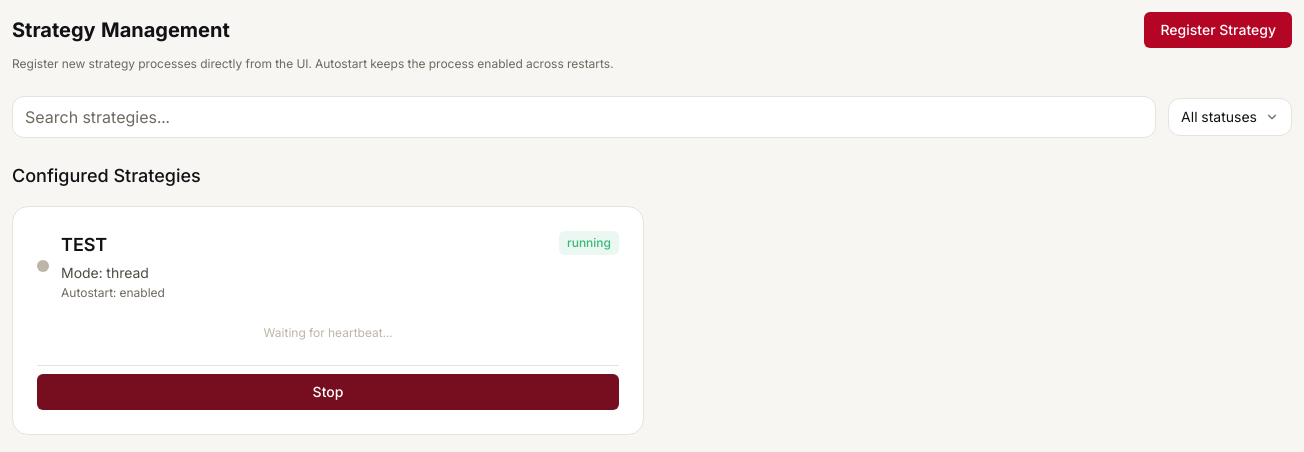
Test case: Strategies › shows no match state and clears filters
This screenshot has width=1304, height=452.
Expected: the heading "TEST" is shown, [61,234,107,255]
Type "nonexistent" into the field with placeholder "Search strategies..." at coordinates (584, 117), box [12,96,1156,138]
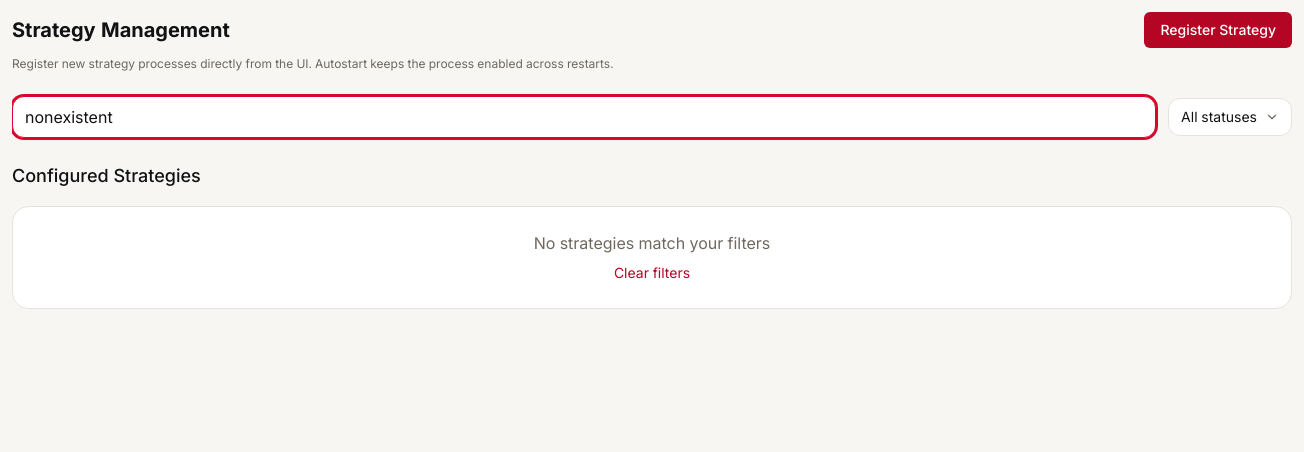
Now the text "No strategies match your filters" is shown, box [534,233,770,253]
Click the button "Clear filters" at coordinates (652, 273), box [614,263,690,283]
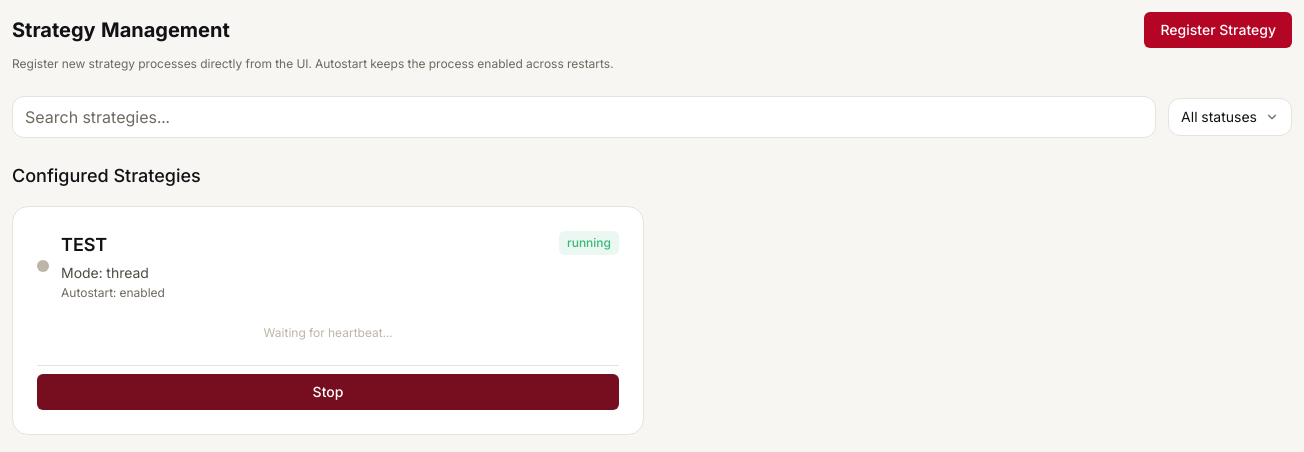
Now the heading "TEST" is shown, box [61,234,107,255]
